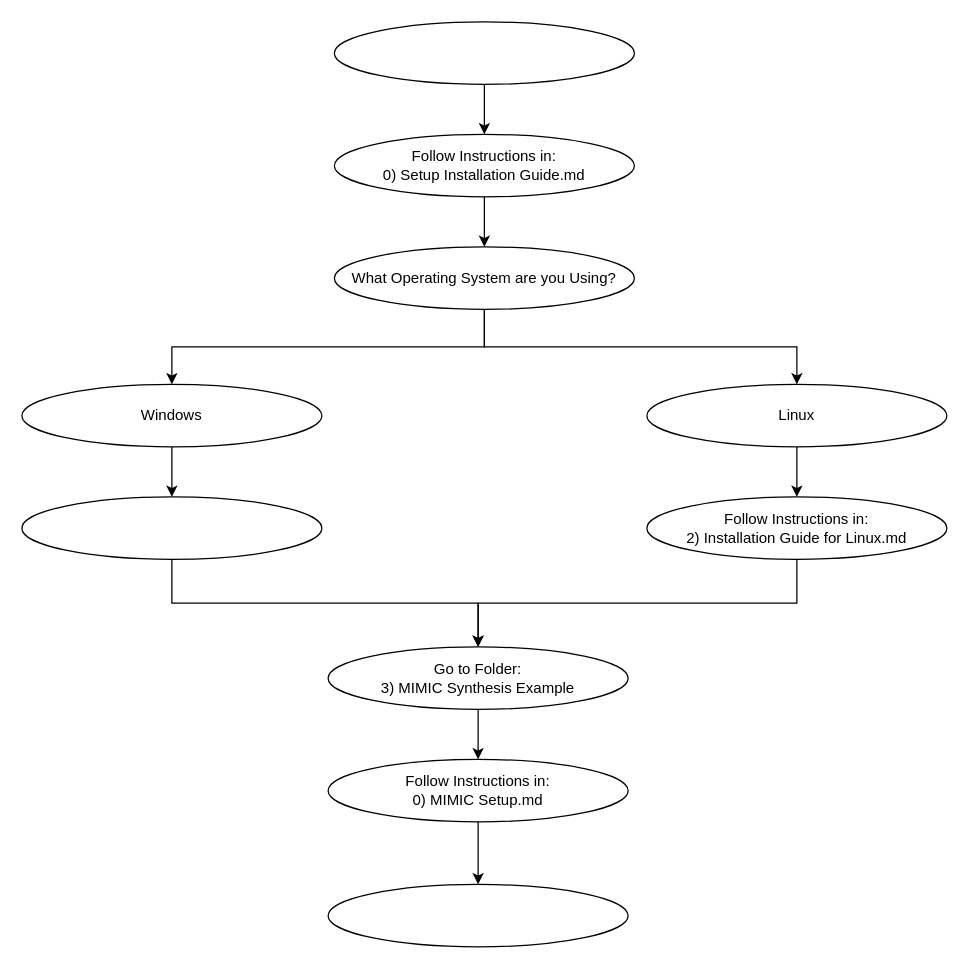
The diagram is 969 pixels wide and 969 high, and some of its shapes have lost their labels. Here are the shapes that lost their labels. From the top down, the centre of each, then its label:
[483,52]: Go to Folder: 1) Installation
[171,527]: Follow Instructions in: 2) Installation Guide for Windows.md
[477,915]: Follow Instructions in: 1) MIMIC Synthesis.md
